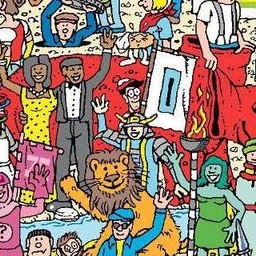waldo: (113, 76, 143, 114)
